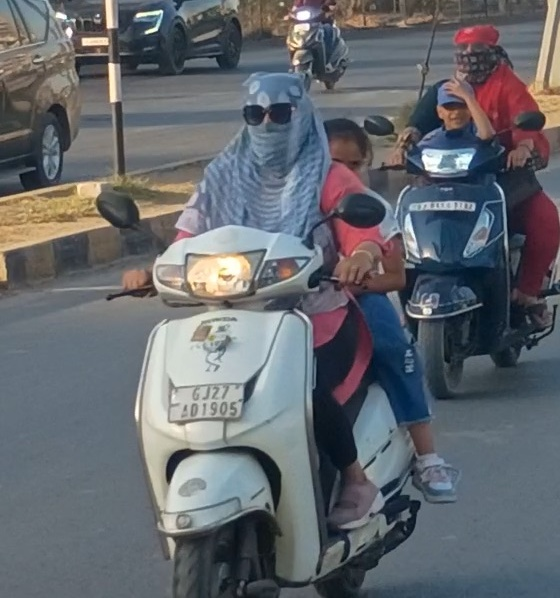BikeWithRider: (86, 66, 468, 597), (361, 19, 560, 403)
NoHelmet: (227, 67, 323, 171), (311, 112, 386, 191), (443, 20, 512, 86), (426, 80, 482, 133)
